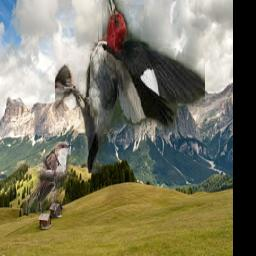Cuckoo: (19, 142, 71, 214)
Woodpecker: (55, 0, 205, 173)
